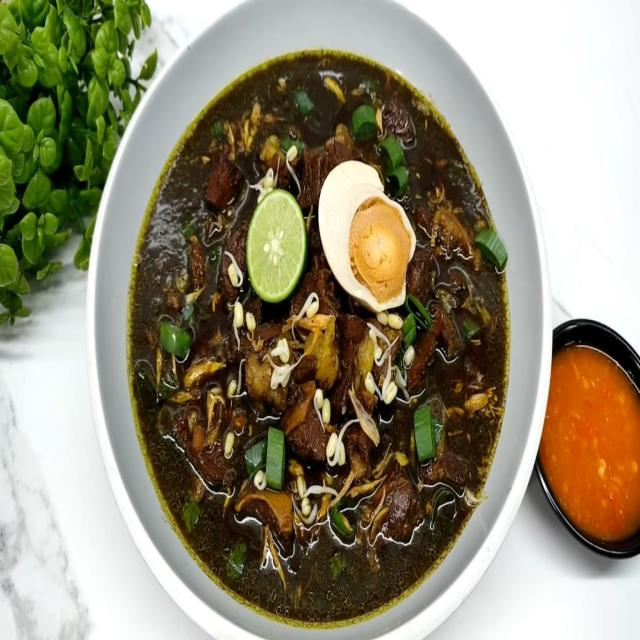Rawon: (134, 35, 508, 612)
